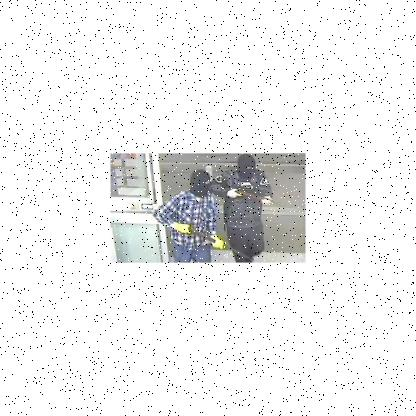gun: (172, 220, 250, 260), (226, 182, 288, 206)
